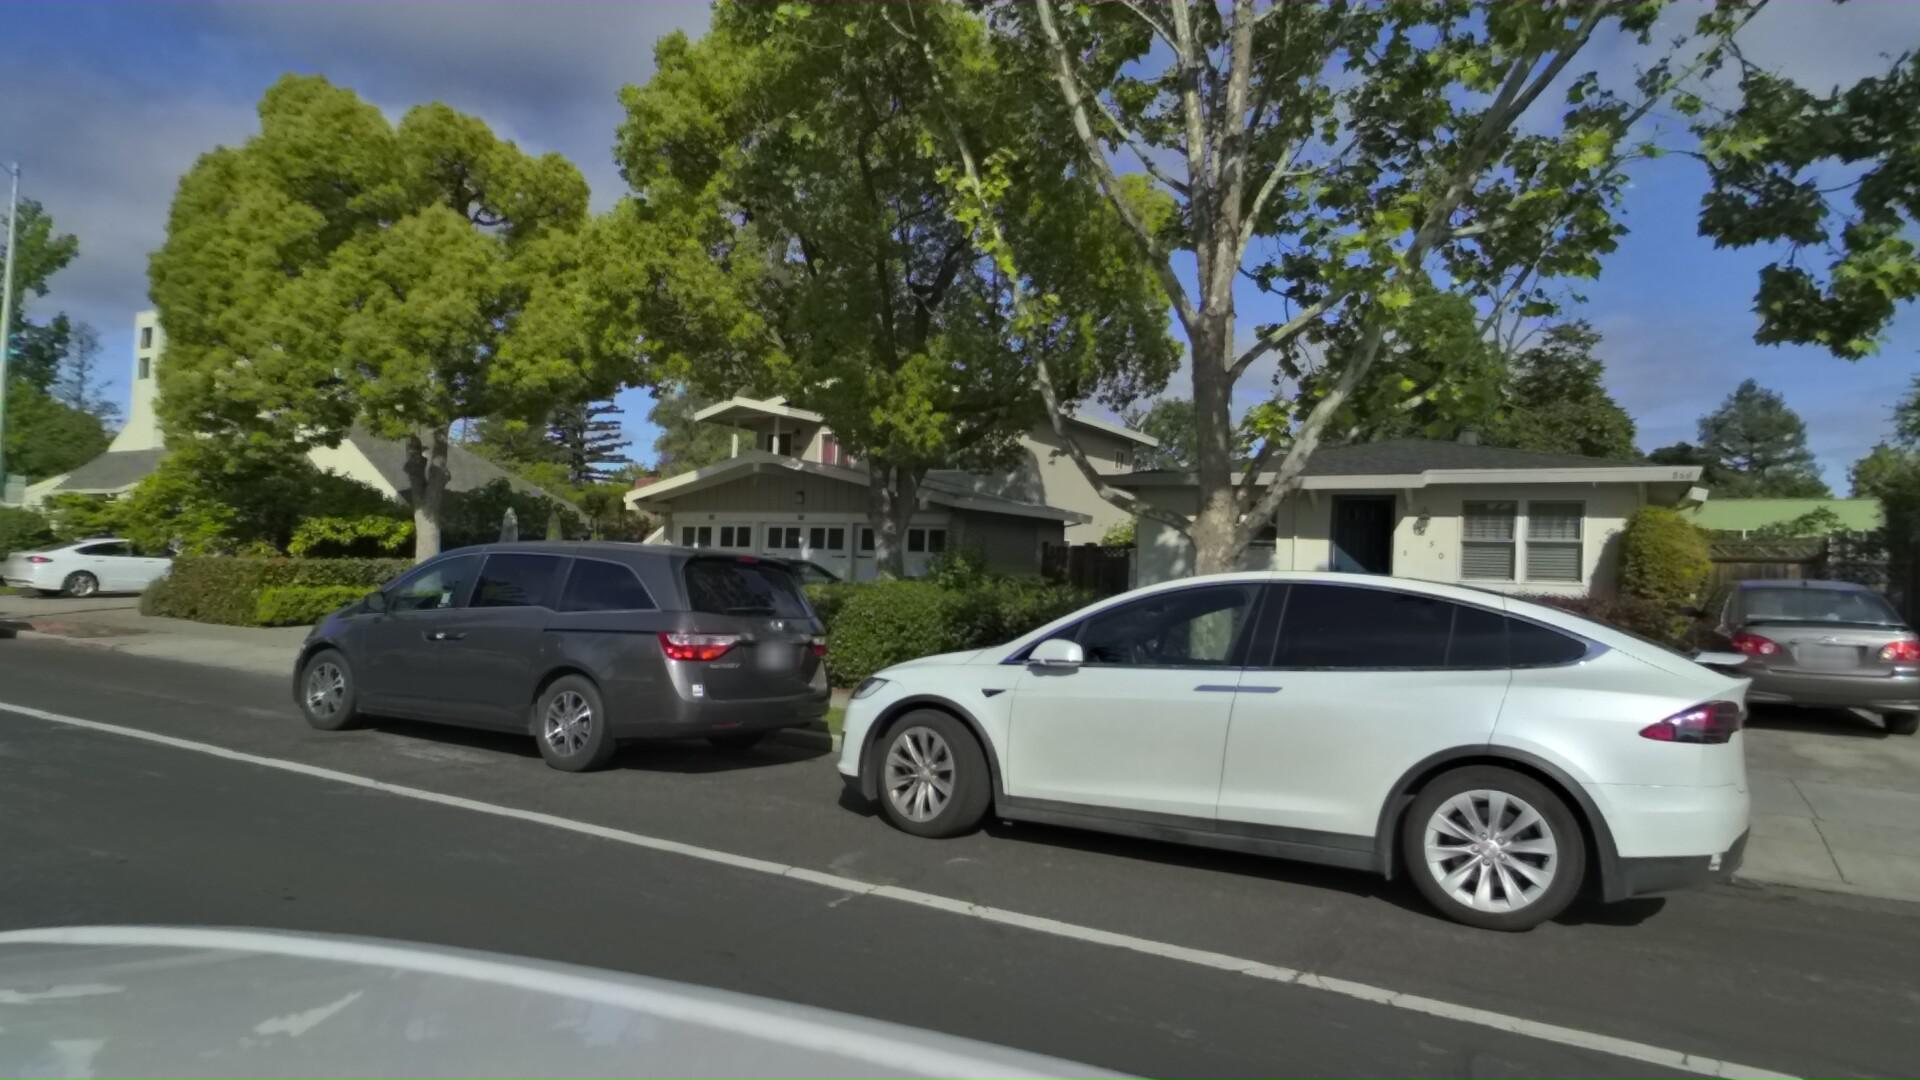car: (735, 545, 1734, 988), (222, 527, 832, 824), (1640, 568, 1920, 752), (618, 546, 872, 655), (0, 533, 224, 601), (0, 538, 7, 649)
